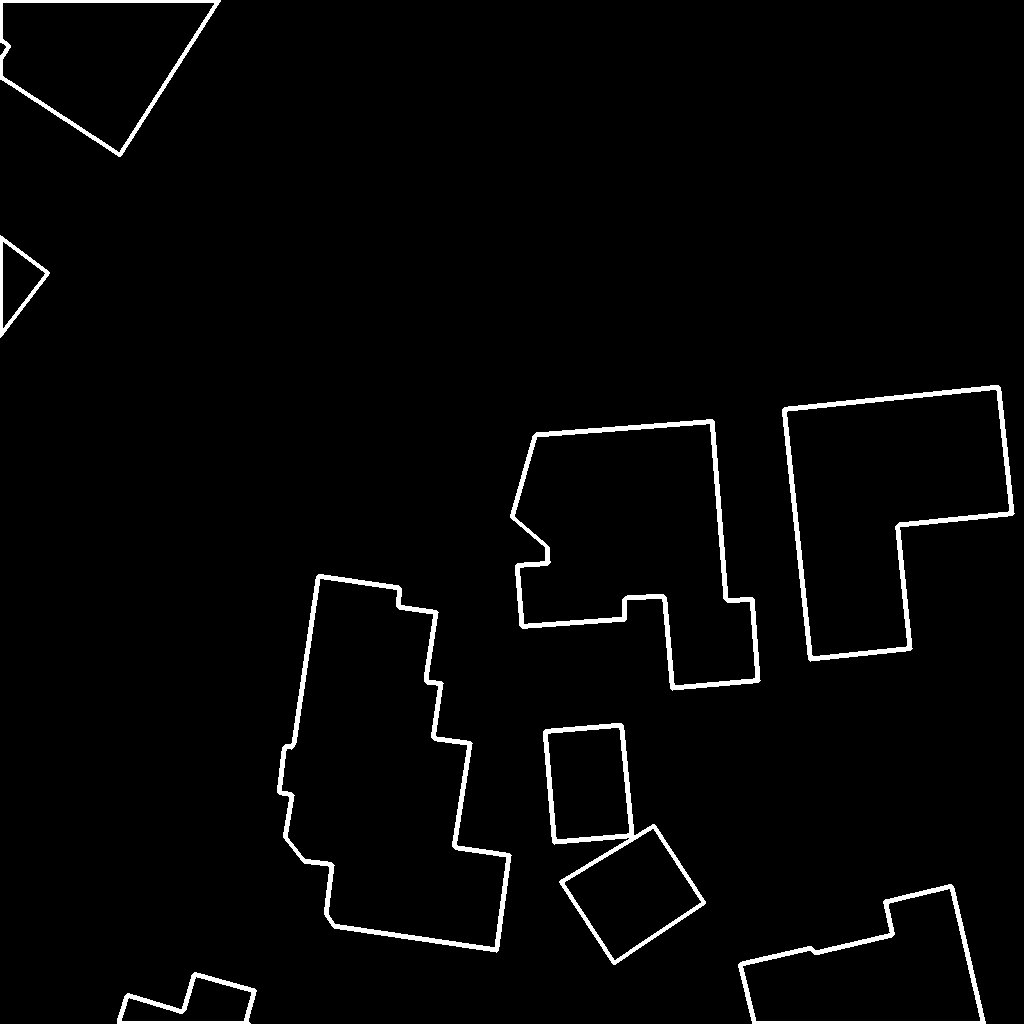building: (279, 576, 510, 951), (512, 421, 759, 689), (784, 387, 1013, 660), (0, 0, 220, 156), (740, 886, 985, 1024), (561, 826, 705, 964), (545, 725, 633, 843), (119, 974, 256, 1024), (0, 237, 49, 337)
